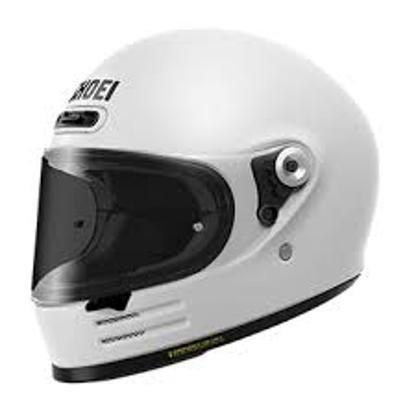not trash: (27, 23, 384, 387)
